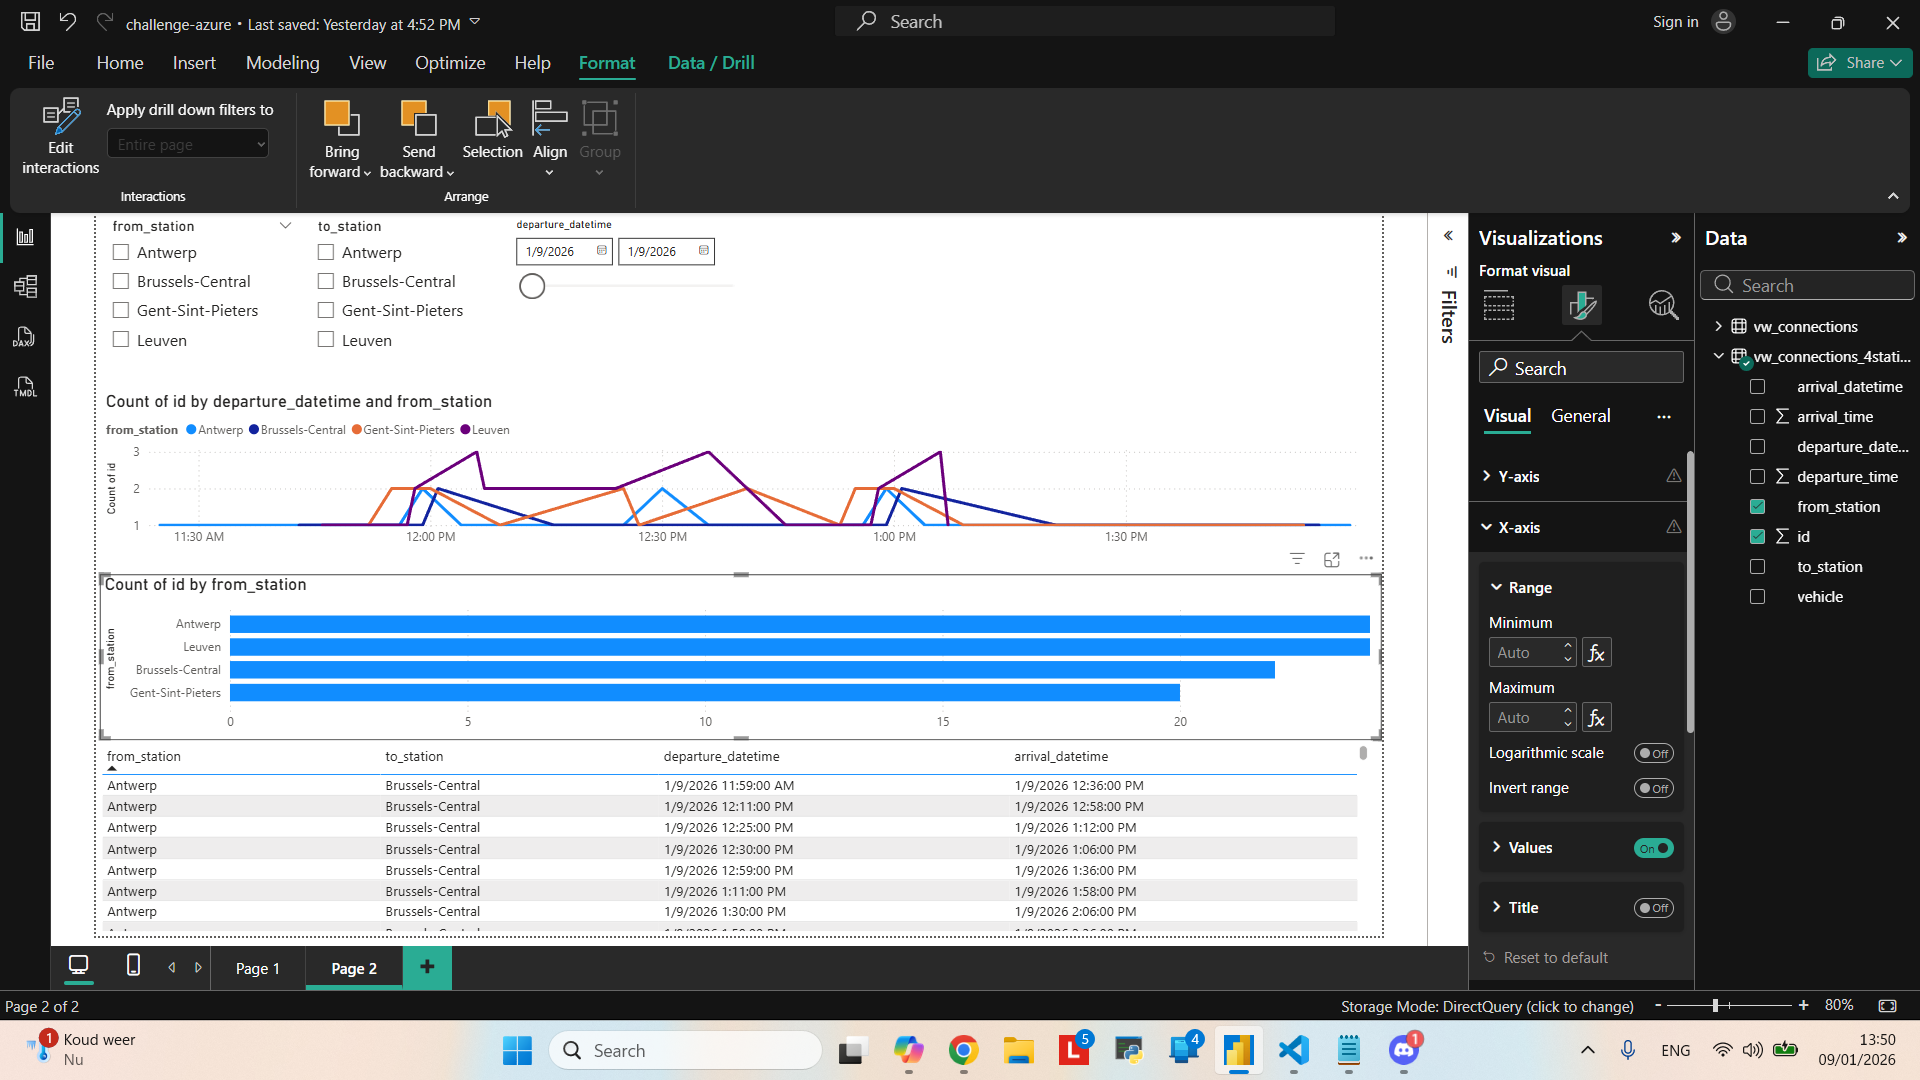

The dashboard page shown, as its layout file describes it:
{"tool":"powerbi","page":{"name":"Page 2","canvas":[1280,720],"ordinal":1},"visuals":[{"type":"lineChart","fields":{"Category":["vw_connections_4stations.departure_datetime"],"Y":["CountNonNull(vw_connections_4stations.id)"],"Series":["vw_connections_4stations.from_station"]},"box":[5,176.6,1270.1,164.2],"z":0},{"type":"barChart","fields":{"Category":["vw_connections_4stations.from_station"],"Y":["CountNonNull(vw_connections_4stations.id)"]},"box":[3.7,359.5,1276.3,165.4],"z":1000},{"type":"tableEx","fields":{"Values":["vw_connections_4stations.from_station","vw_connections_4stations.to_station","vw_connections_4stations.departure_datetime","vw_connections_4stations.arrival_datetime"]},"box":[0,525.6,1270.7,194.9],"z":2000},{"type":"slicer","fields":{"Values":["vw_connections_4stations.from_station"]},"box":[3.7,0,204,163],"z":3000},{"type":"slicer","fields":{"Values":["vw_connections_4stations.to_station"]},"box":[207.7,0,192.8,163],"z":4000},{"type":"slicer","fields":{"Values":["vw_connections_4stations.departure_datetime"]},"box":[405.5,0,251.3,89.6],"z":5000}]}

Visuals, with their boxes on the page's 1280x720 design canvas (x1, y1, x2, y2). These are canvas units, not pixel positions in the 1920x1080 screenshot, which may show the page scaled, cropped or inside an application window:
lineChart - vw_connections_4stations.departure_datetime x CountNonNull(vw_connections_4stations.id): bbox=[5, 177, 1275, 341]
barChart - vw_connections_4stations.from_station x CountNonNull(vw_connections_4stations.id): bbox=[4, 360, 1280, 525]
tableEx - vw_connections_4stations.from_station x vw_connections_4stations.to_station: bbox=[0, 526, 1271, 720]
slicer - vw_connections_4stations.from_station: bbox=[4, 0, 208, 163]
slicer - vw_connections_4stations.to_station: bbox=[208, 0, 400, 163]
slicer - vw_connections_4stations.departure_datetime: bbox=[406, 0, 657, 90]
